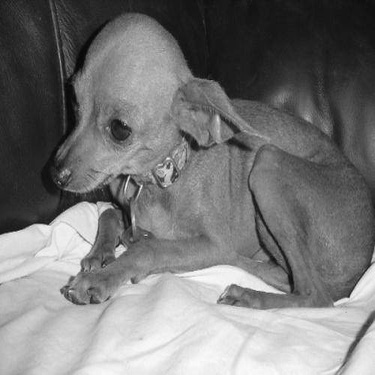dog: (30, 5, 373, 319)
